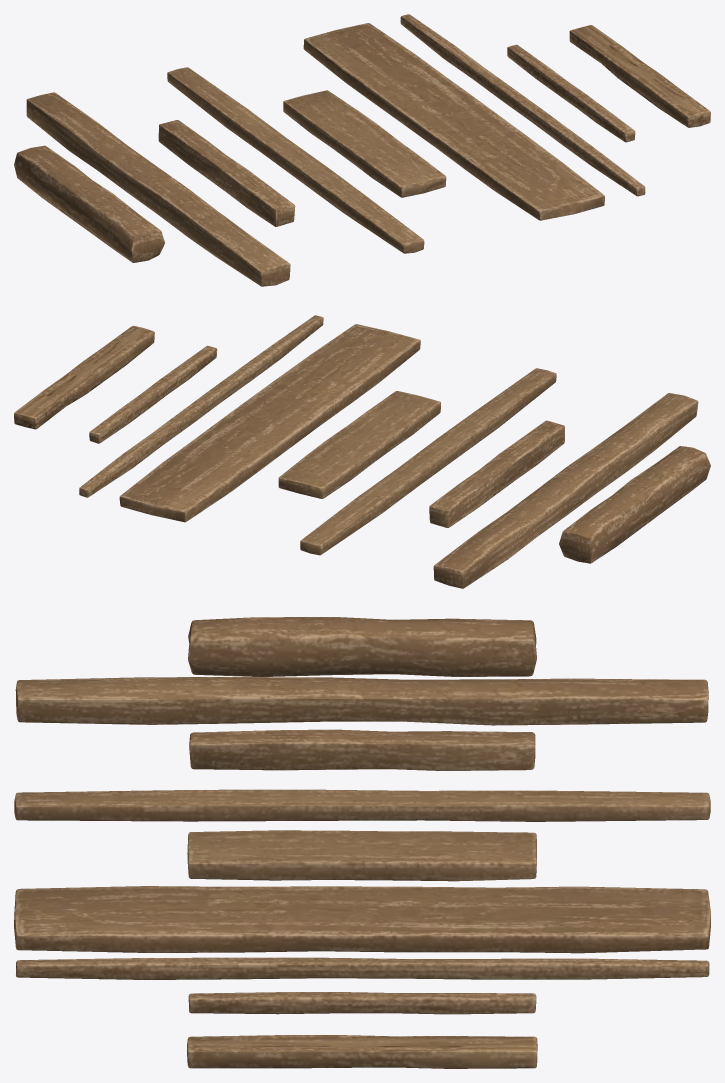
The model's file is planks.glb.
The picture shows the model from 3 angles, top to bottom: view 1: azimuth 30°, elevation 25°; view 2: azimuth 150°, elevation 25°; view 3: azimuth 270°, elevation 25°; orthographic projection. The views are drawn at different scales.
Visible parts, largest first — view 1: 2x12x6_Material.001_0, 4x6x6_Material.001_0, 2x4x6_Material.001_0, 2x8x3_Material.001_0, 6x6x3_Material.001_0, 2x2x6_Material.001_0, 4x4x3_Material.001_0, 2x4x3_Material.001_0, 2x2x3_Material.001_0; view 2: 2x12x6_Material.001_0, 4x6x6_Material.001_0, 2x4x6_Material.001_0, 6x6x3_Material.001_0, 2x8x3_Material.001_0, 2x2x6_Material.001_0, 4x4x3_Material.001_0, 2x4x3_Material.001_0, 2x2x3_Material.001_0; view 3: 2x12x6_Material.001_0, 4x6x6_Material.001_0, 2x4x6_Material.001_0, 6x6x3_Material.001_0, 2x8x3_Material.001_0, 2x2x6_Material.001_0, 4x4x3_Material.001_0, 2x4x3_Material.001_0, 2x2x3_Material.001_0.
Part boxes in pixels (bbox=[...]): 2x12x6_Material.001_0: bbox=[303, 23, 604, 220]; 4x6x6_Material.001_0: bbox=[26, 92, 290, 286]; 2x4x6_Material.001_0: bbox=[167, 67, 424, 253]; 2x8x3_Material.001_0: bbox=[283, 90, 446, 197]; 6x6x3_Material.001_0: bbox=[14, 145, 164, 262]; 2x2x6_Material.001_0: bbox=[400, 14, 645, 196]; 4x4x3_Material.001_0: bbox=[158, 120, 295, 226]; 2x4x3_Material.001_0: bbox=[569, 25, 710, 127]; 2x2x3_Material.001_0: bbox=[507, 44, 635, 142]; 2x12x6_Material.001_0: bbox=[119, 324, 420, 522]; 4x6x6_Material.001_0: bbox=[433, 393, 698, 588]; 2x4x6_Material.001_0: bbox=[300, 368, 556, 555]; 6x6x3_Material.001_0: bbox=[559, 446, 710, 563]; 2x8x3_Material.001_0: bbox=[278, 391, 440, 498]; 2x2x6_Material.001_0: bbox=[79, 315, 323, 497]; 4x4x3_Material.001_0: bbox=[429, 420, 564, 527]; 2x4x3_Material.001_0: bbox=[14, 325, 154, 429]; 2x2x3_Material.001_0: bbox=[89, 345, 217, 443]; 2x12x6_Material.001_0: bbox=[14, 886, 710, 953]; 4x6x6_Material.001_0: bbox=[15, 677, 708, 725]; 2x4x6_Material.001_0: bbox=[14, 789, 710, 821]; 6x6x3_Material.001_0: bbox=[188, 617, 536, 676]; 2x8x3_Material.001_0: bbox=[187, 830, 536, 881]; 2x2x6_Material.001_0: bbox=[16, 957, 709, 979]; 4x4x3_Material.001_0: bbox=[189, 729, 535, 770]; 2x4x3_Material.001_0: bbox=[187, 1035, 537, 1068]; 2x2x3_Material.001_0: bbox=[188, 992, 536, 1014].
Bounding box in the file's own units: 257 × 14.33 × 182.
1 material, 1 textured.
